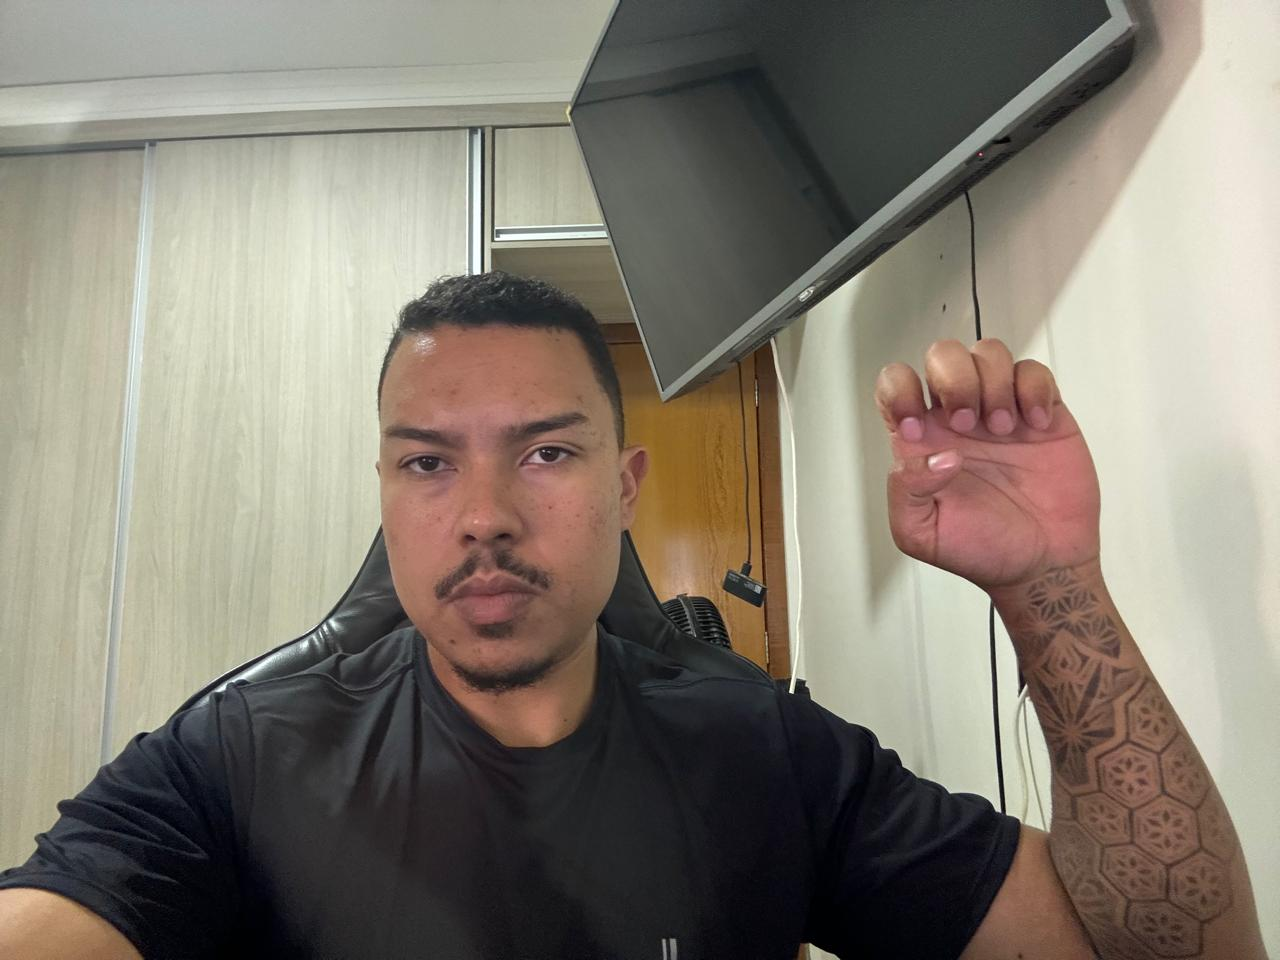e: (862, 335, 1119, 585)
